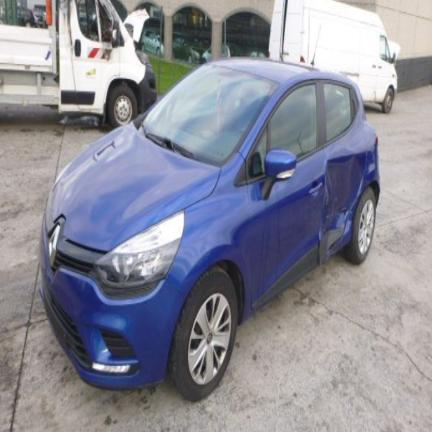dent: (321, 147, 362, 259)
